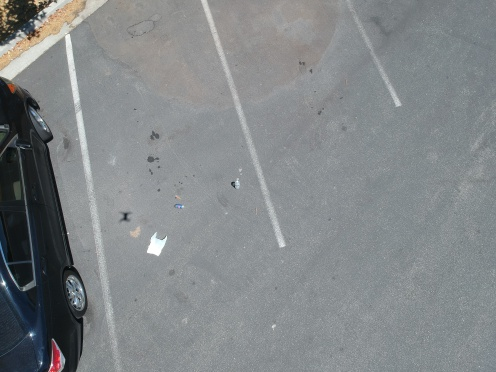bottle: (230, 175, 241, 192)
can: (171, 198, 187, 210)
plastic bag: (140, 229, 170, 258)
